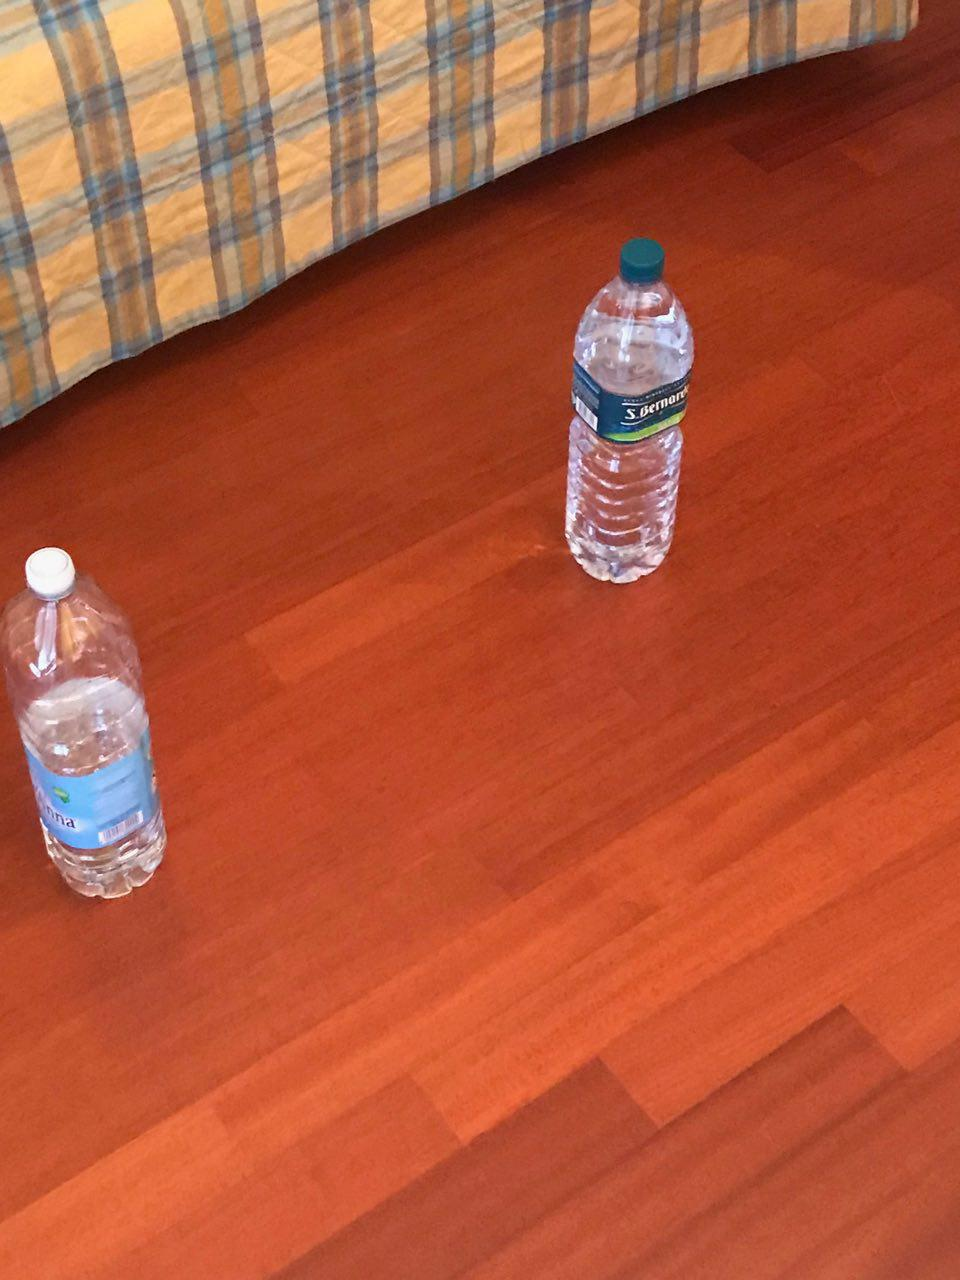san_bernardo: (563, 237, 695, 585)
